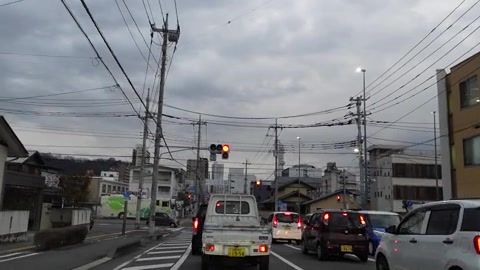traffic_sign: (123, 190, 130, 198)
